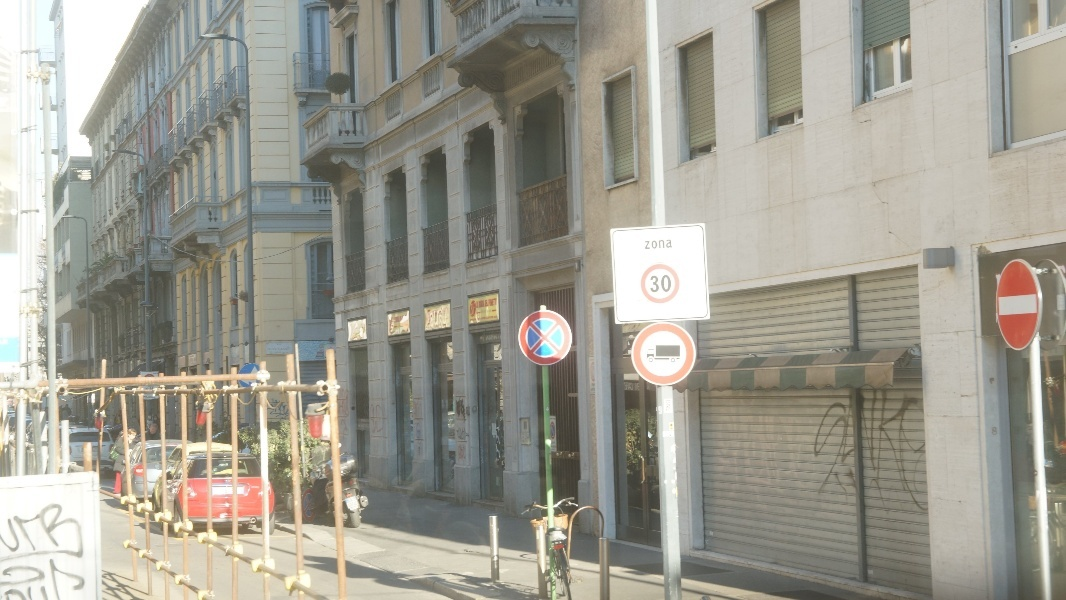text: (817, 383, 832, 513), (833, 383, 848, 513), (849, 383, 864, 513), (865, 383, 880, 513), (881, 383, 896, 513), (897, 383, 912, 513), (913, 383, 928, 513), (1, 496, 16, 600), (17, 496, 32, 600), (33, 496, 48, 600), (49, 496, 64, 600), (65, 496, 80, 600), (812, 383, 816, 513), (81, 496, 86, 600), (370, 405, 384, 433), (481, 298, 496, 322), (657, 275, 672, 294), (279, 397, 288, 425), (456, 399, 464, 422), (657, 240, 672, 250), (457, 444, 464, 465), (289, 397, 294, 425), (456, 427, 464, 442), (625, 383, 640, 391), (650, 275, 656, 294), (645, 240, 656, 250), (476, 298, 480, 322), (647, 383, 656, 391), (465, 427, 469, 442), (273, 347, 288, 351), (552, 442, 560, 449), (465, 399, 467, 422), (465, 444, 467, 465), (497, 298, 498, 322), (268, 347, 272, 351), (593, 384, 595, 391), (289, 347, 291, 351), (591, 384, 592, 391)
